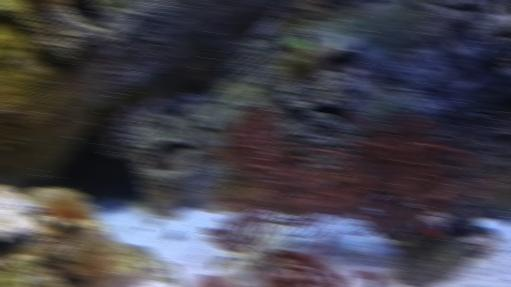Fish: (418, 221, 443, 239), (212, 256, 231, 270), (36, 216, 55, 228)
